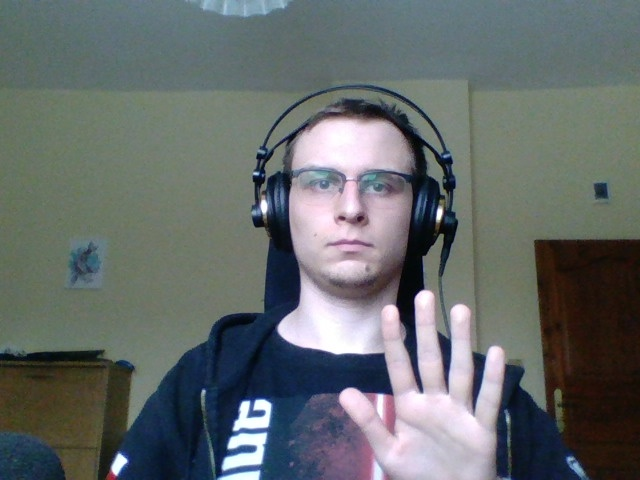hello: (340, 284, 517, 479)
